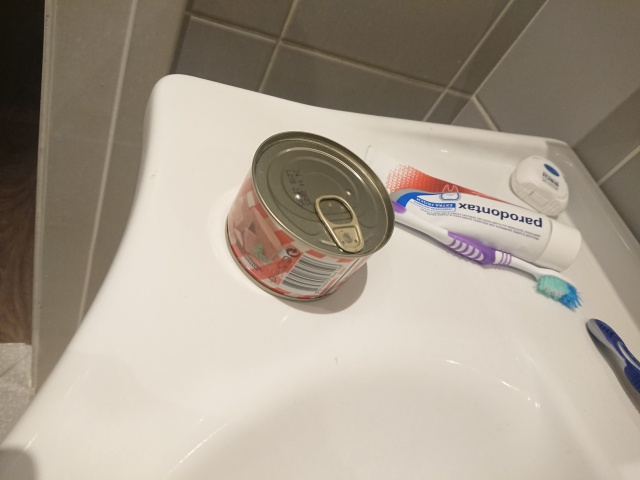Podravka Luncheon Meat 150g: (222, 128, 397, 305)
